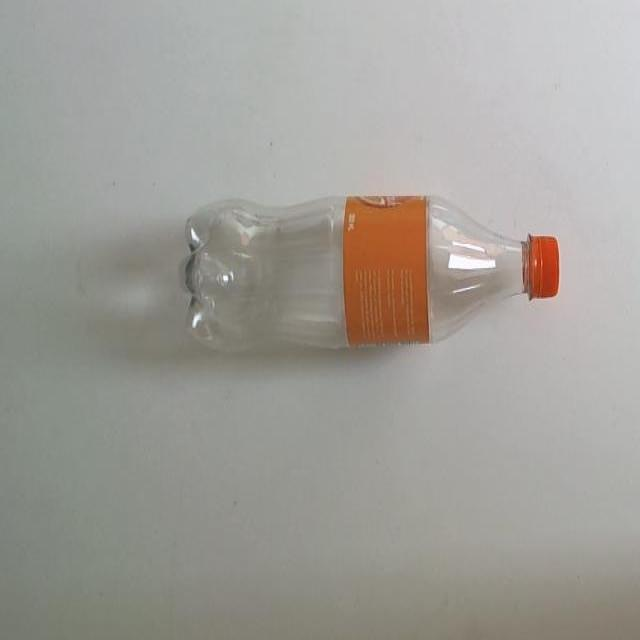non-defect: (183, 192, 562, 356)
